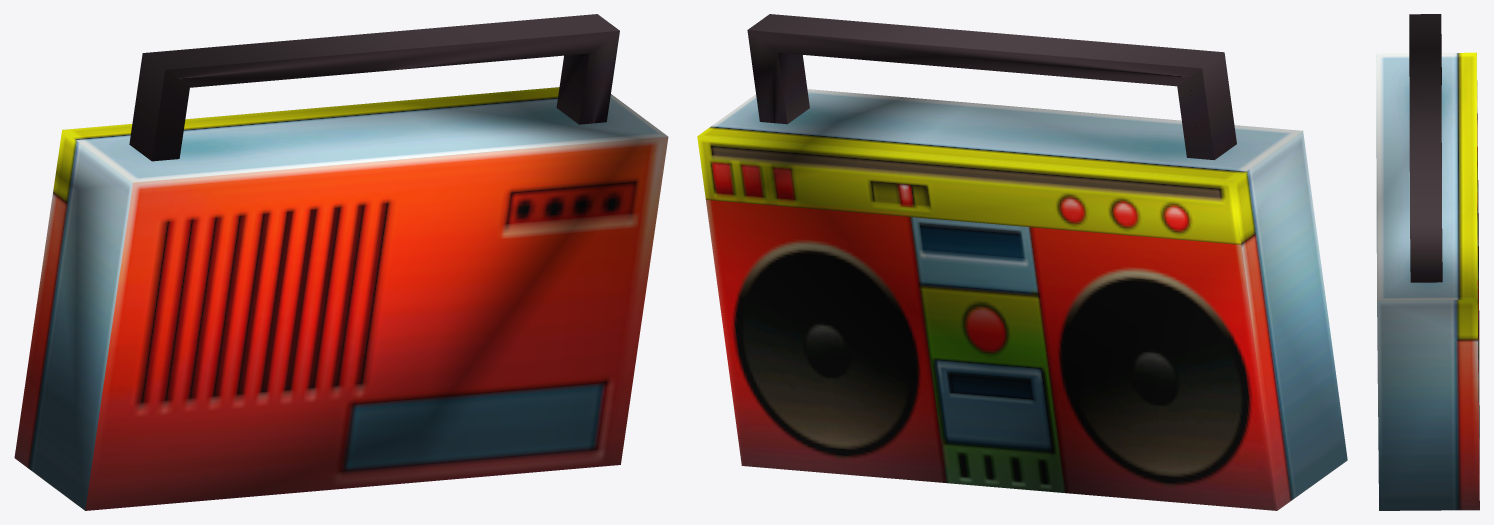
The model's file is unlocker_fresh.glb.
The picture shows the model from 3 angles, left to right: view 1: azimuth 30°, elevation 25°; view 2: azimuth 150°, elevation 25°; view 3: azimuth 270°, elevation 25°; orthographic projection. The views are drawn at different scales.
Parts seen in each view (by area): view 1: unlocker_fresh; view 2: unlocker_fresh; view 3: unlocker_fresh.
Boxes of the visible parts, x1=… form: unlocker_fresh: x1=14, y1=14, x2=668, y2=510; unlocker_fresh: x1=697, y1=14, x2=1347, y2=510; unlocker_fresh: x1=1376, y1=14, x2=1479, y2=510.
Size of the model in its own units: 8.36 by 6.66 by 1.81.
1 material, 1 textured.
